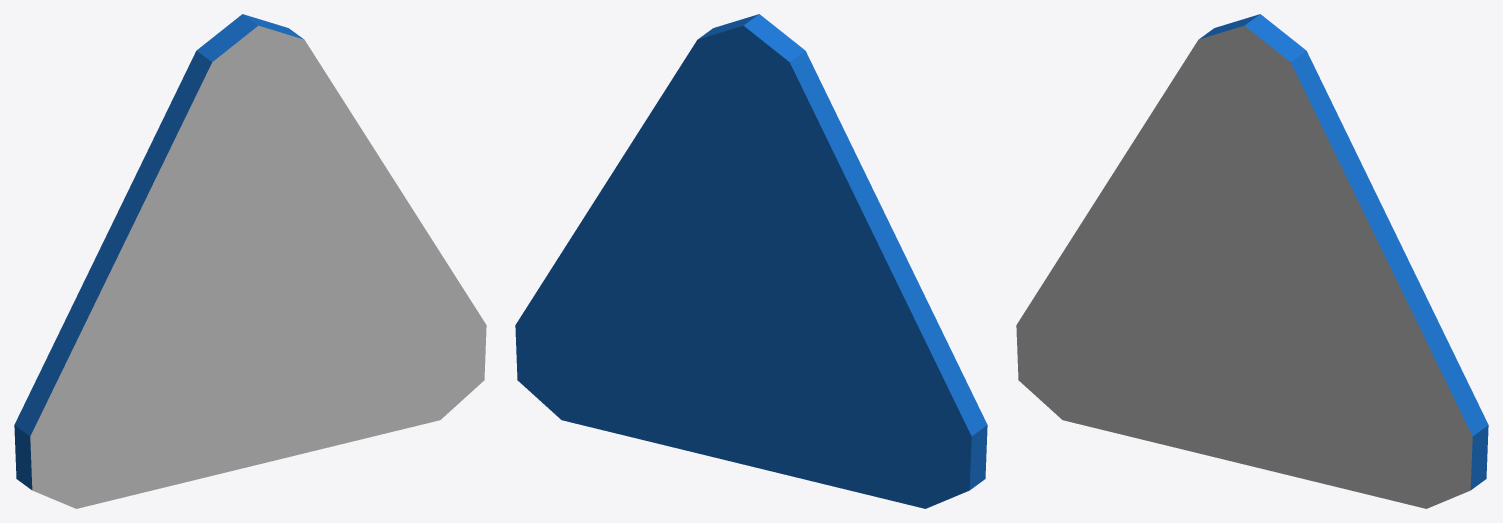
The model's file is SM_attention_to_aircraft.fbx.
3 renders of one model, left to right at view 1: azimuth 30°, elevation 25°; view 2: azimuth 150°, elevation 25°; view 3: azimuth 330°, elevation 25°, orthographic.
Visible parts, largest first — view 1: Cylinder_41; view 2: Cylinder_41; view 3: Cylinder_41.
Part boxes in pixels (<box>): Cylinder_41: <box>14,14,486,508</box>; Cylinder_41: <box>515,14,987,508</box>; Cylinder_41: <box>1016,14,1488,508</box>.
Size of the model in its own units: 49.73 by 45.72 by 3.
